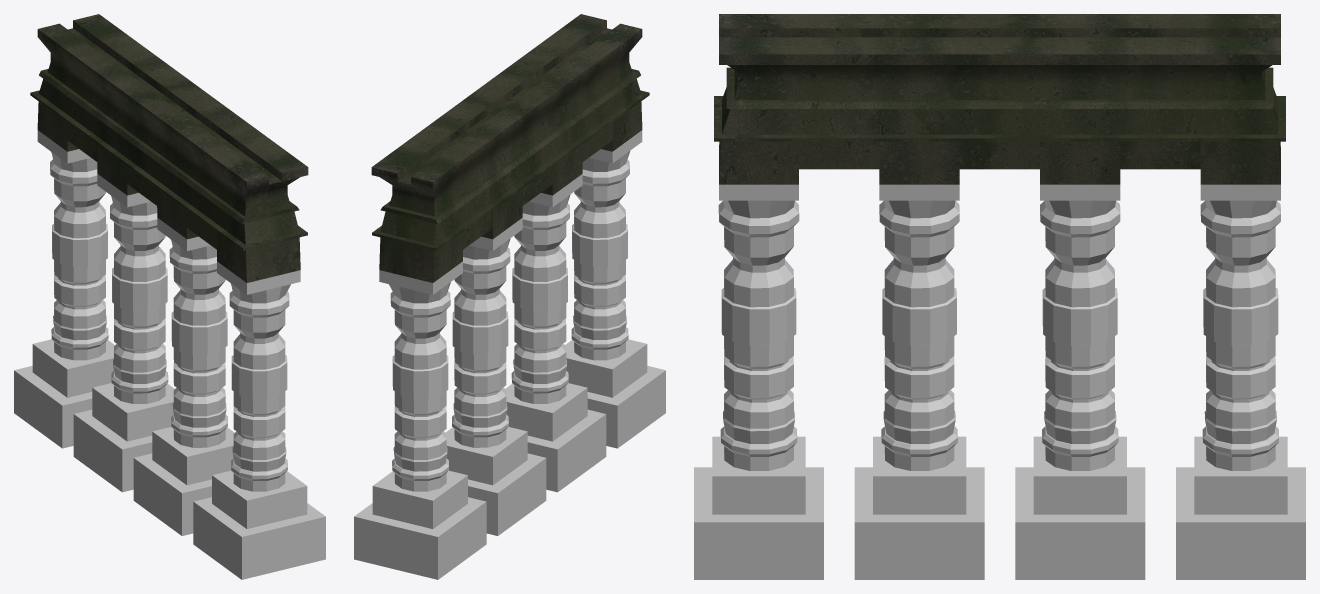
Rendered from full columns_02.fbx.
3 renders of one model, left to right at view 1: azimuth 30°, elevation 25°; view 2: azimuth 150°, elevation 25°; view 3: azimuth 270°, elevation 25°, orthographic. The views are drawn at different scales.
Visible parts, largest first — view 1: pCube6, polySurface14, polySurface13, polySurface16, polySurface15; view 2: pCube6, polySurface15, polySurface13, polySurface16, polySurface14; view 3: pCube6, polySurface13, polySurface16, polySurface15, polySurface14.
Part boxes in pixels (x1,y1,x2,y2): pCube6: [30, 14, 308, 282]; polySurface14: [193, 261, 325, 579]; polySurface13: [133, 218, 234, 535]; polySurface16: [73, 174, 174, 492]; polySurface15: [14, 130, 114, 448]; pCube6: [371, 14, 649, 282]; polySurface15: [354, 261, 486, 579]; polySurface13: [505, 174, 606, 492]; polySurface16: [445, 218, 546, 535]; polySurface14: [565, 130, 665, 448]; pCube6: [714, 14, 1285, 184]; polySurface13: [854, 184, 984, 579]; polySurface16: [1015, 184, 1145, 579]; polySurface15: [1176, 184, 1305, 579]; polySurface14: [694, 184, 823, 579].
Size of the model in its own units: 116 by 509 by 543.
